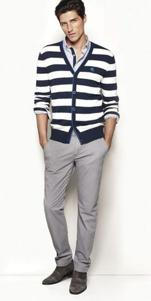C_cardigan sweater: (28, 37, 128, 141)
